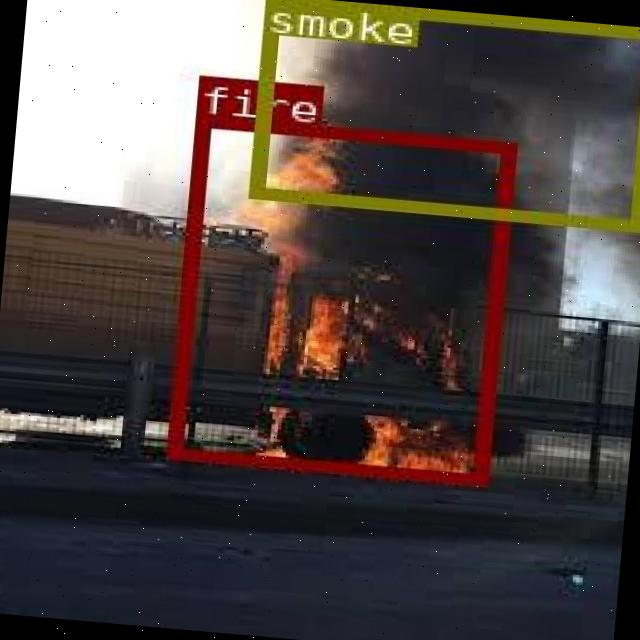fire: (164, 113, 514, 483)
smoke: (246, 0, 640, 228)
